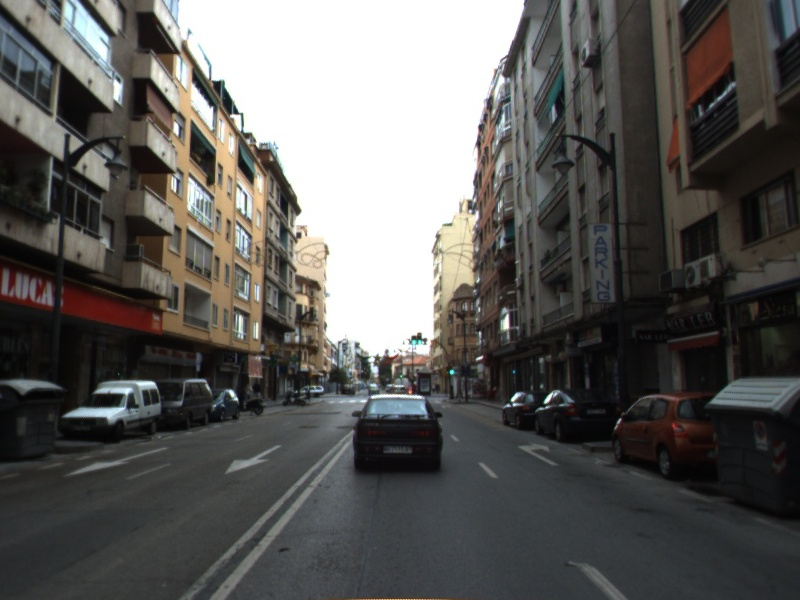RIGHT: (516, 440, 560, 467)
